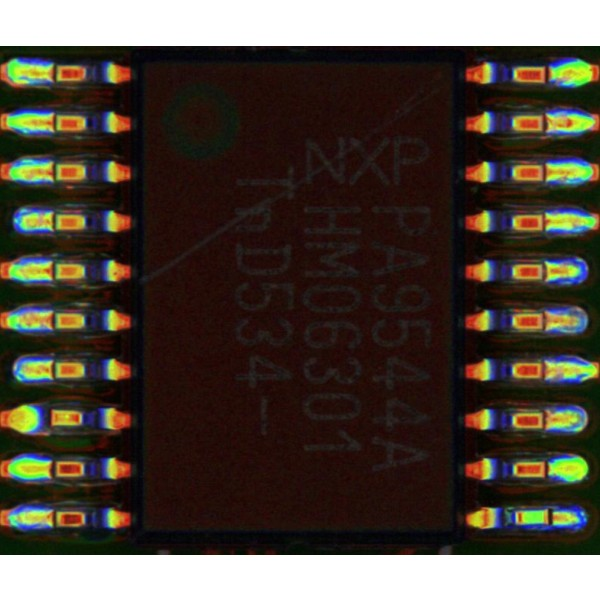Bad_podu: (32, 66, 70, 81), (31, 265, 74, 278), (526, 266, 568, 279), (32, 314, 74, 327), (528, 216, 568, 229), (526, 168, 568, 180), (34, 362, 70, 376), (531, 511, 566, 525), (528, 314, 563, 328), (531, 364, 567, 377), (35, 117, 72, 129), (34, 167, 73, 178), (530, 416, 567, 427), (35, 216, 72, 227), (35, 512, 68, 524), (37, 464, 68, 476)
